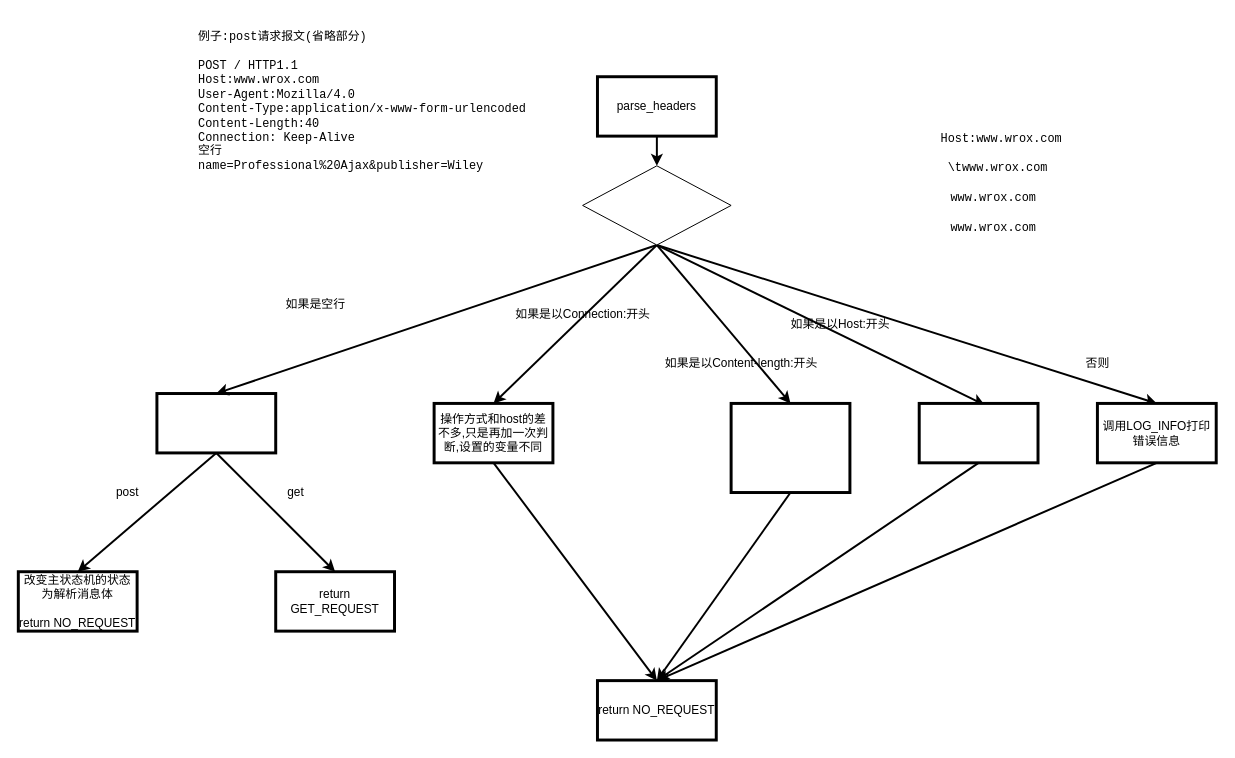
This 1235x758 diagram has some shape labels left out. The shapes that lost their labels are listed below. From the top down, each one's box as (x1, y1, x2, y2) in pixels, then its label:
(582, 165, 731, 245): 判断
(155, 392, 277, 454): 判断m_content_length是否为0,从而判断是get还是post
(729, 401, 851, 494): 操作和host一样,只不过赋值给m_content_length时时调用了atol(),将string转换为long int
